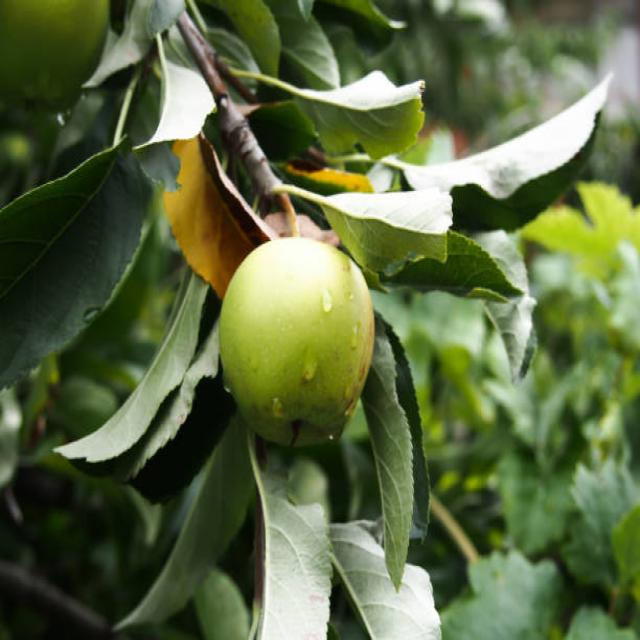Unripe: (222, 236, 371, 452)
